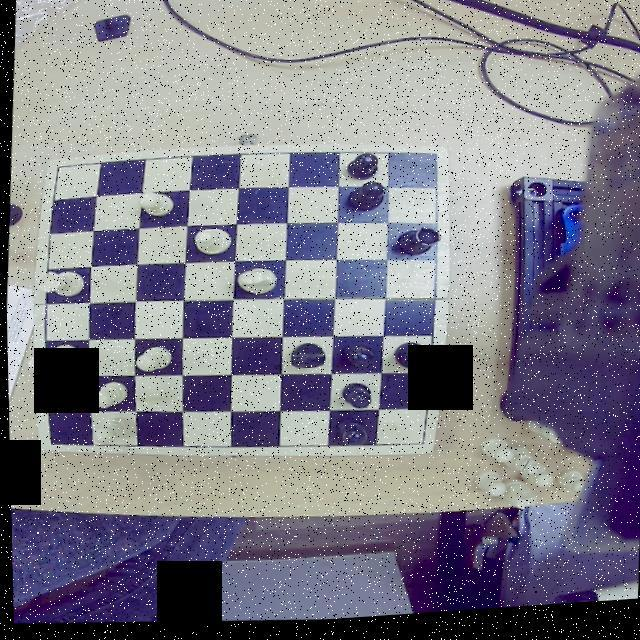chess-table-corners: (419, 152, 445, 175), (410, 434, 433, 458), (38, 434, 66, 452), (46, 162, 69, 182)
